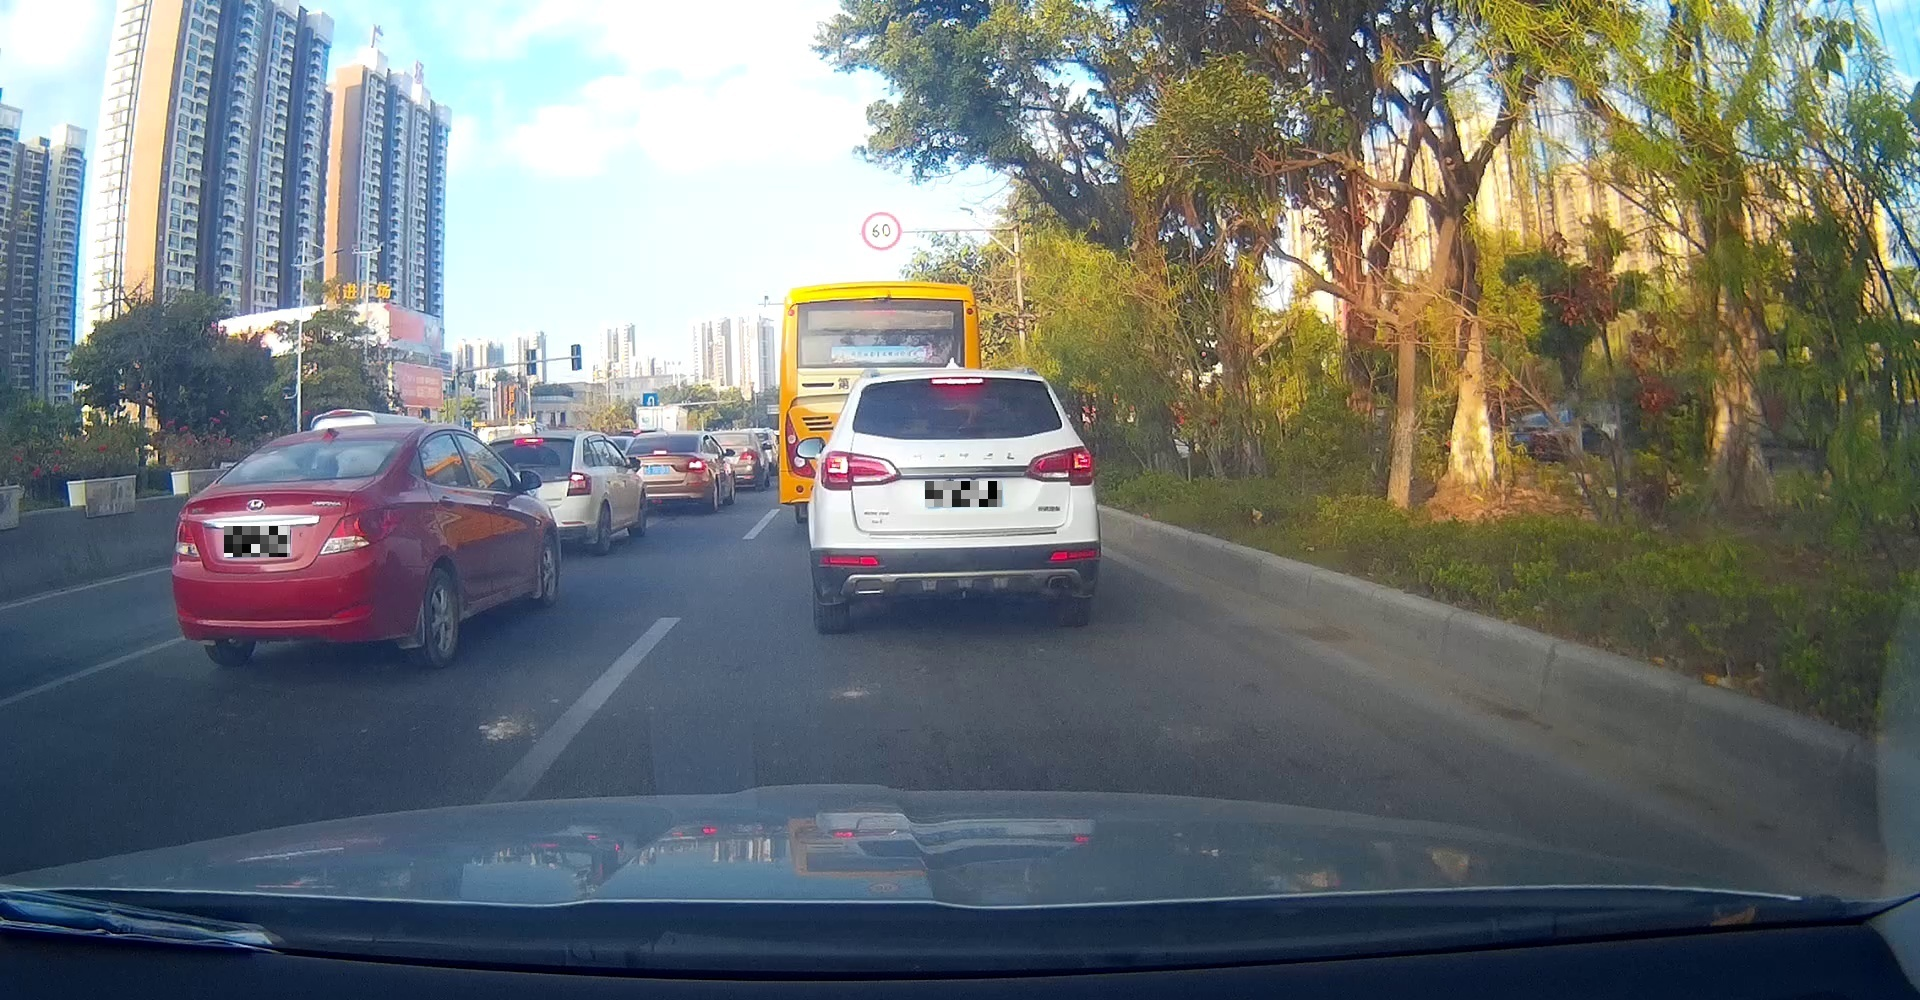L_light: (819, 451, 902, 491), (173, 519, 201, 561)
R_light: (317, 504, 408, 555), (1023, 445, 1095, 485)
T_light: (930, 378, 983, 385), (307, 437, 344, 445)
day-brake: (809, 371, 1101, 628)
day-no: (171, 429, 417, 661)
plate_1: (223, 525, 290, 557)
plate_2: (924, 481, 1002, 508)
